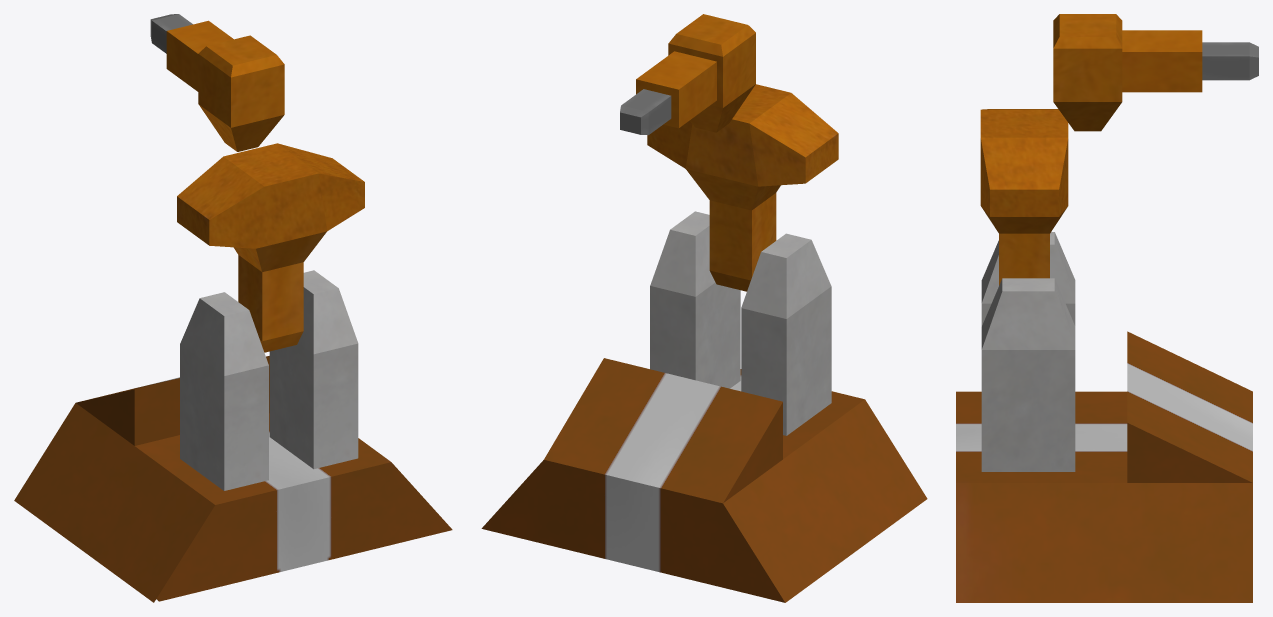
The model's file is TorreNormalAMAST2.fbx.
3 renders of one model, left to right at view 1: azimuth 30°, elevation 25°; view 2: azimuth 150°, elevation 25°; view 3: azimuth 270°, elevation 25°, orthographic. The views are drawn at different scales.
Parts seen in each view (by area): view 1: Base, Torre; view 2: Base, Torre; view 3: Base, Torre.
Part boxes in pixels (box(x1,y1,x2,y2)): Base: box(14, 143, 452, 602); Torre: box(150, 14, 284, 151); Base: box(481, 84, 927, 602); Torre: box(620, 14, 755, 135); Base: box(956, 109, 1252, 602); Torre: box(1053, 14, 1258, 131).
Bounding box in the file's own units: 2.47 × 3.72 × 2.04.
